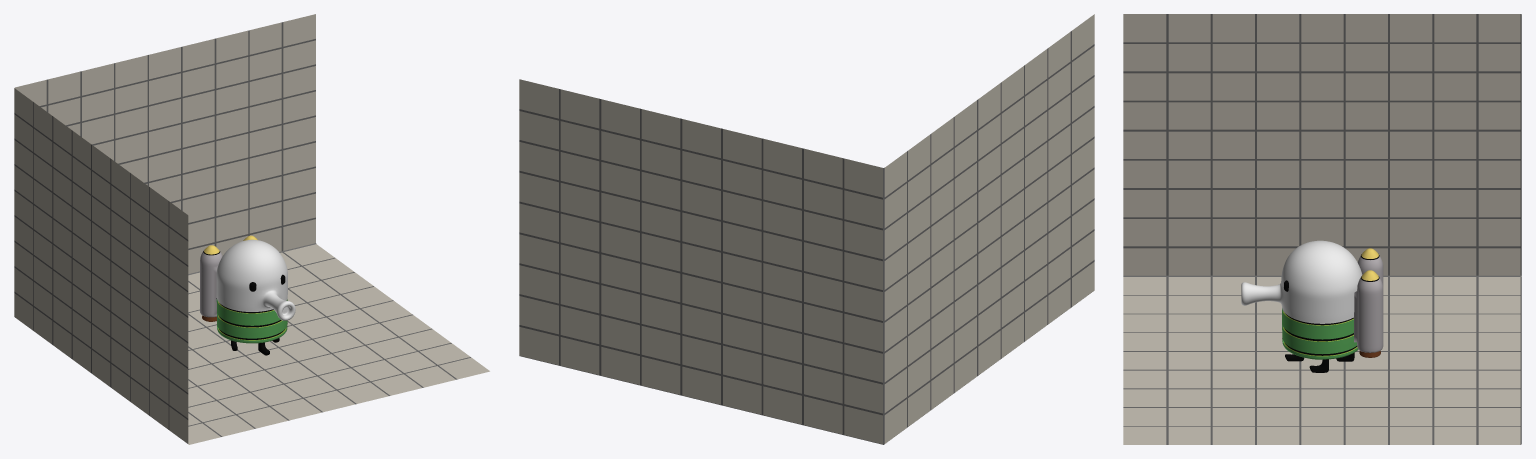
The model's file is doodlejump.fbx.
The picture shows the model from 3 angles, left to right: view 1: azimuth 30°, elevation 25°; view 2: azimuth 150°, elevation 25°; view 3: azimuth 270°, elevation 25°; orthographic projection. The views are drawn at different scales.
Parts seen in each view (by area): view 1: Plane, Sphere, Cube.004; view 2: Plane; view 3: Plane, Sphere, Cube.004.
Boxes of the visible parts, bbox=[...] form: Plane: bbox=[14, 14, 489, 444]; Sphere: bbox=[216, 239, 295, 343]; Cube.004: bbox=[200, 235, 257, 321]; Plane: bbox=[519, 14, 1094, 444]; Plane: bbox=[1123, 14, 1521, 444]; Sphere: bbox=[1241, 240, 1362, 359]; Cube.004: bbox=[1354, 248, 1383, 357].
Bounding box in the file's own units: 947 × 689 × 947.
